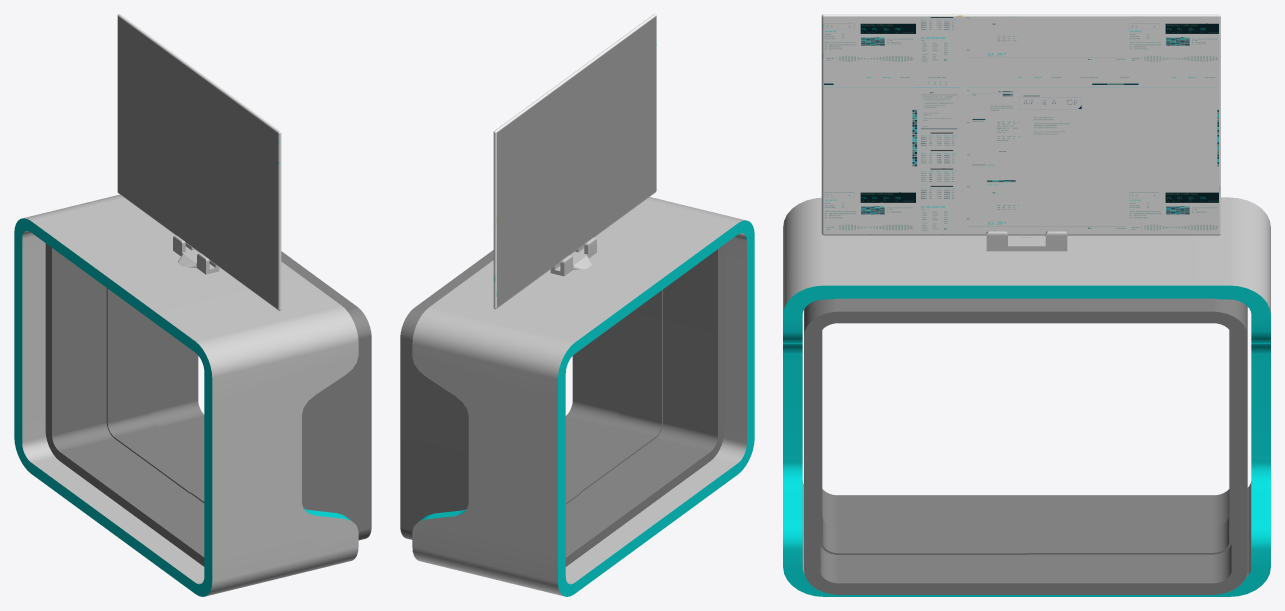
The model's file is screen table colored .fbx.
3 renders of one model, left to right at view 1: azimuth 30°, elevation 25°; view 2: azimuth 150°, elevation 25°; view 3: azimuth 270°, elevation 25°, orthographic. The views are drawn at different scales.
Parts seen in each view (by area): view 1: table, screen, holder; view 2: table, screen, holder; view 3: table, screen, holder.
Part boxes in pixels (x1,y1,x2,y2): table: (14,194,371,596); screen: (117,14,281,310); holder: (173,235,219,274); table: (400,197,754,596); screen: (493,14,656,309); holder: (550,237,596,276); table: (783,197,1270,596); screen: (821,14,1220,235); holder: (986,231,1067,251).
Bounding box in the file's own units: 67.06 × 169 × 137.
